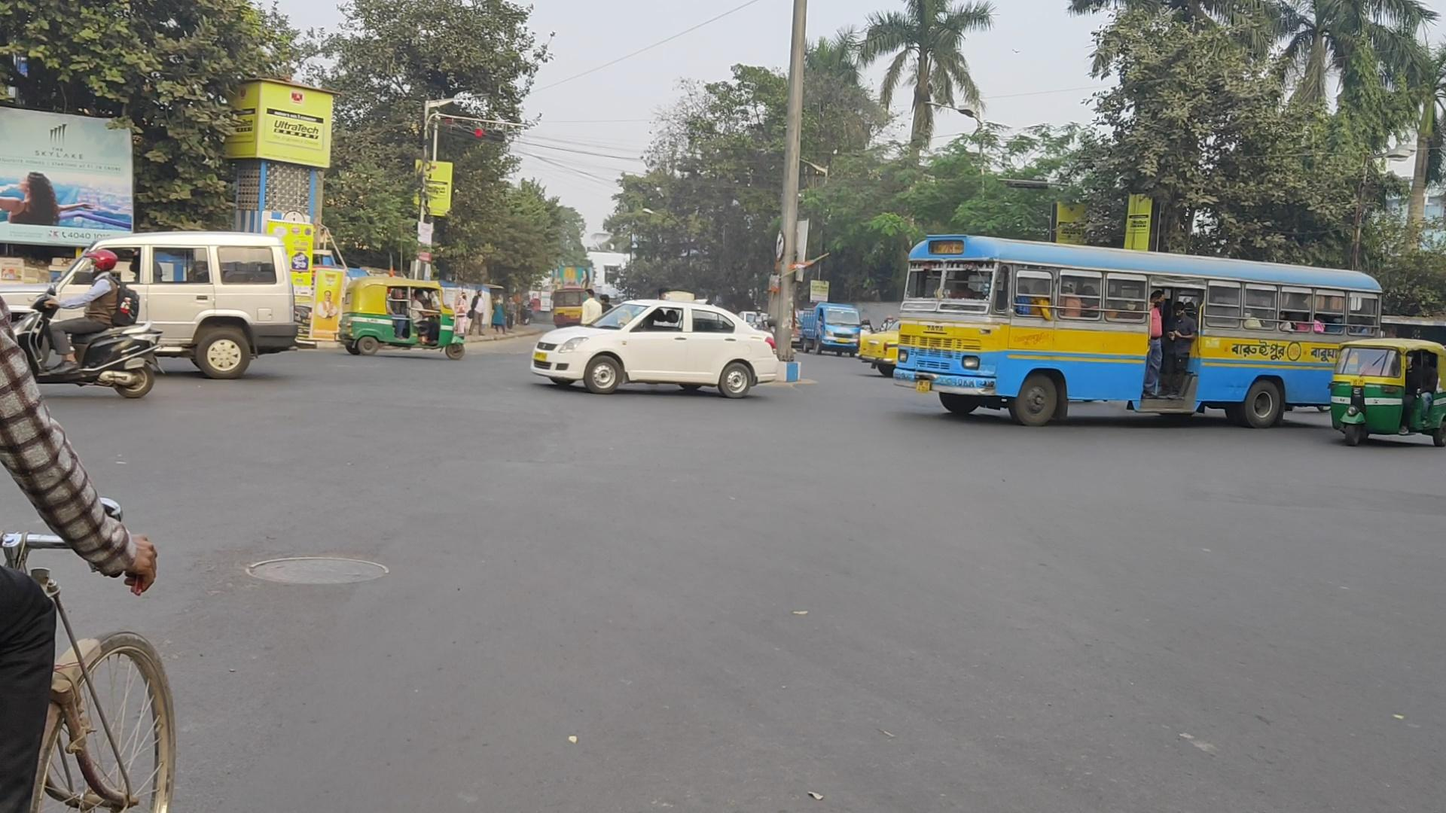Auto: (1328, 338, 1446, 448), (337, 276, 465, 360)
Bus: (893, 234, 1383, 429), (550, 287, 596, 332)
bike: (1, 249, 161, 399)
car: (2, 230, 298, 379), (531, 298, 778, 399)
van: (802, 302, 861, 356)
